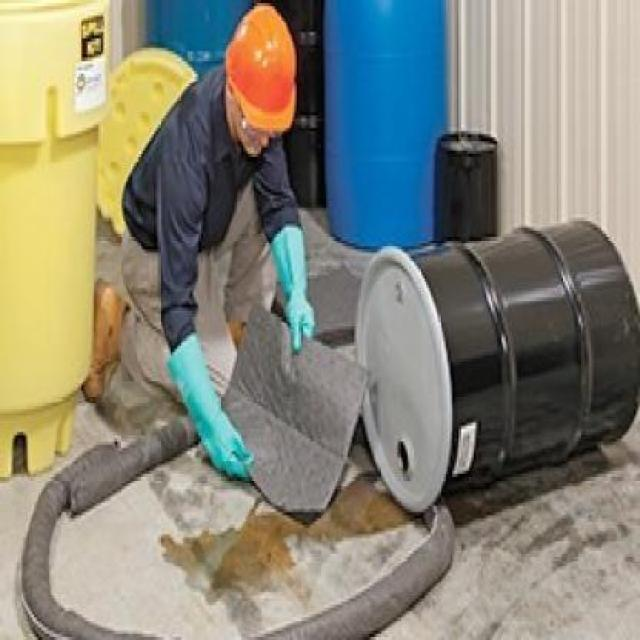spillage: (158, 470, 418, 611)
